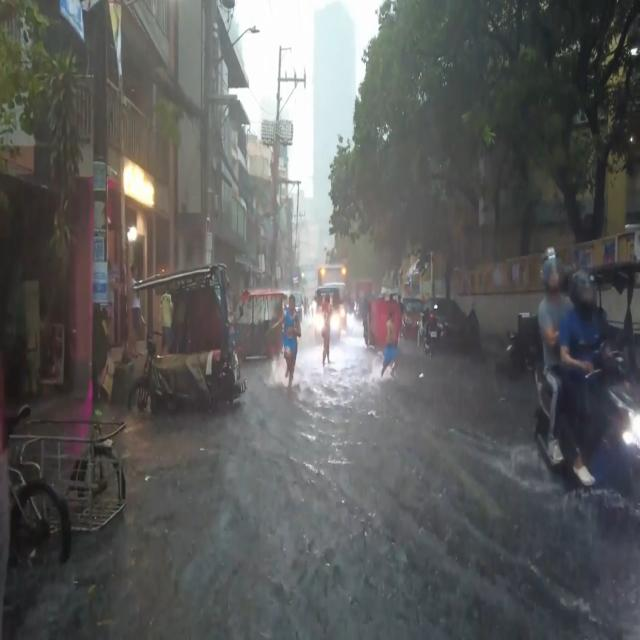full: (568, 264, 599, 318)
half: (539, 246, 566, 291)
